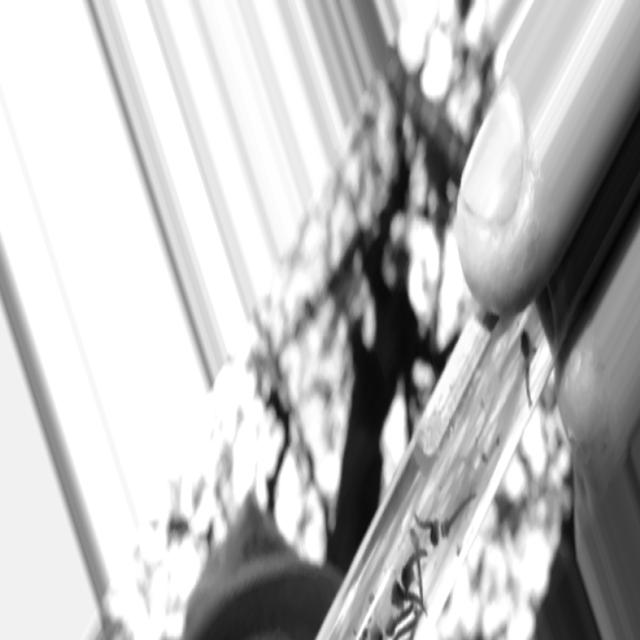larvas: (441, 496, 476, 536), (520, 333, 537, 405), (385, 603, 414, 637), (391, 584, 427, 609), (404, 550, 426, 588), (413, 514, 440, 540), (413, 527, 423, 595), (391, 618, 417, 640), (409, 611, 422, 639)
